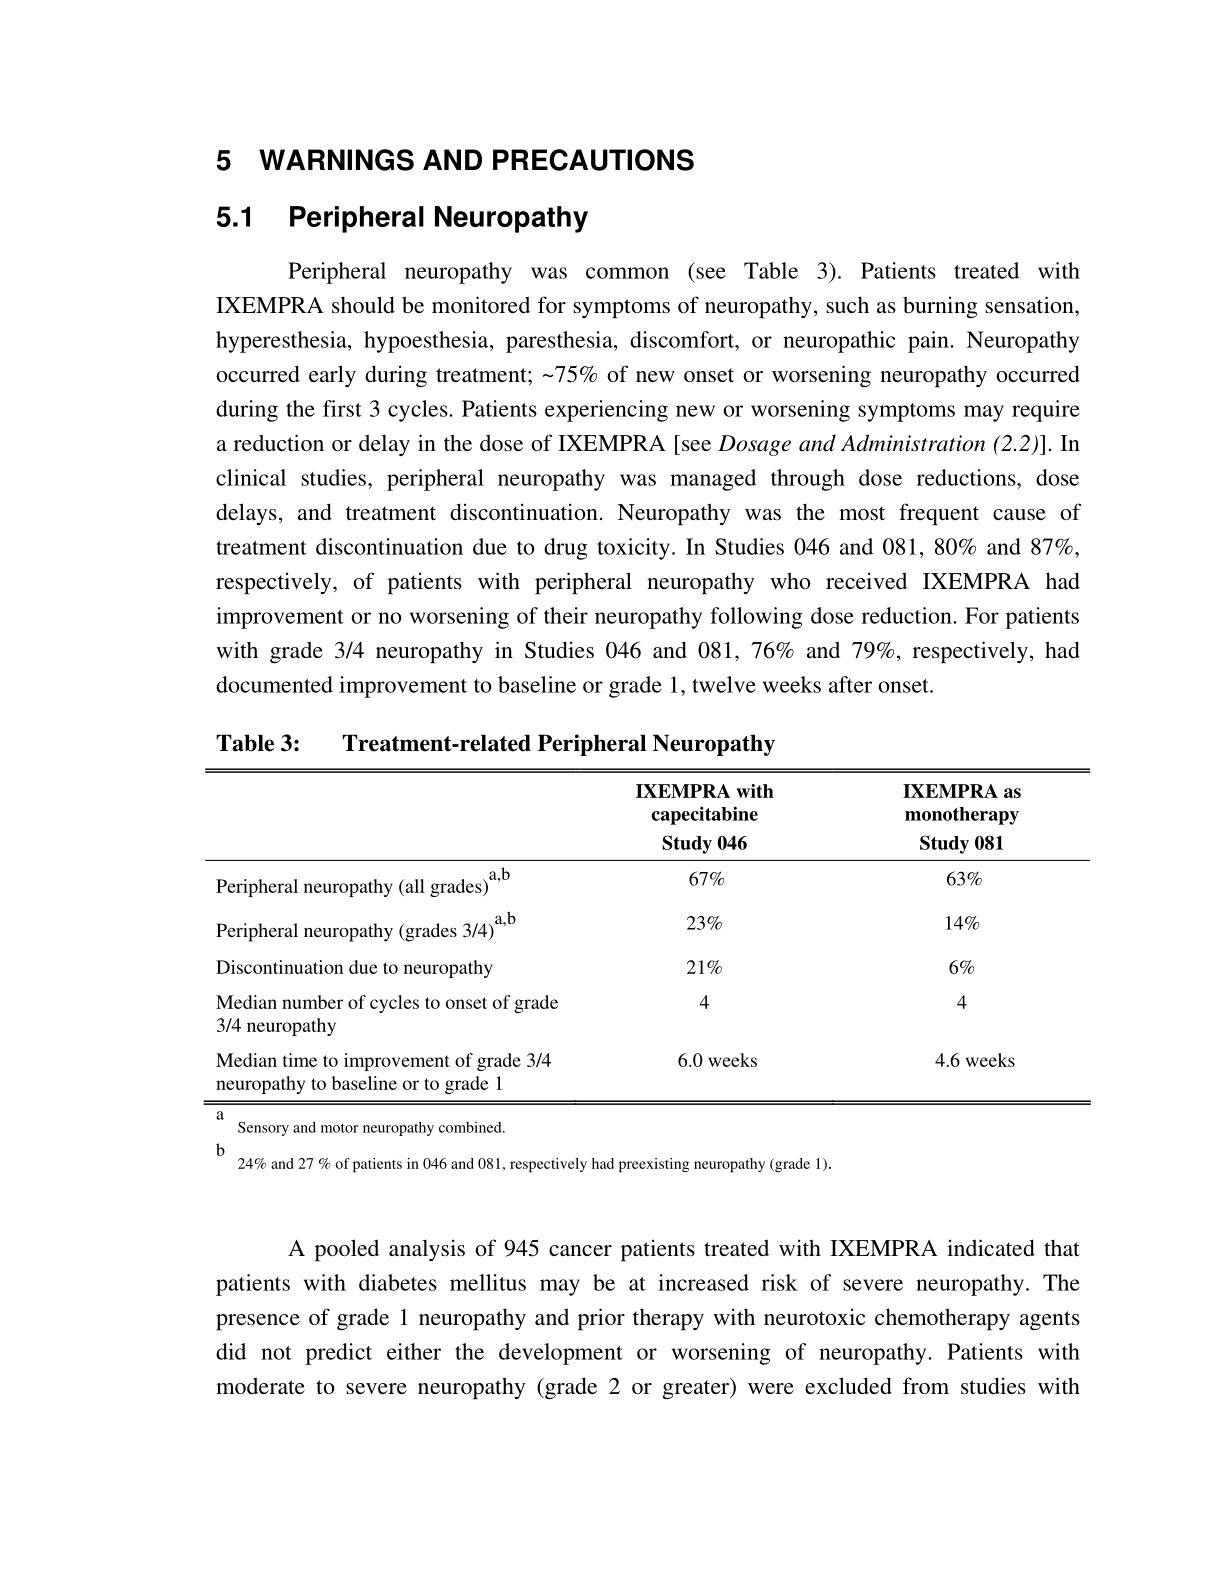partial_lined: (202, 768, 1094, 1106)
